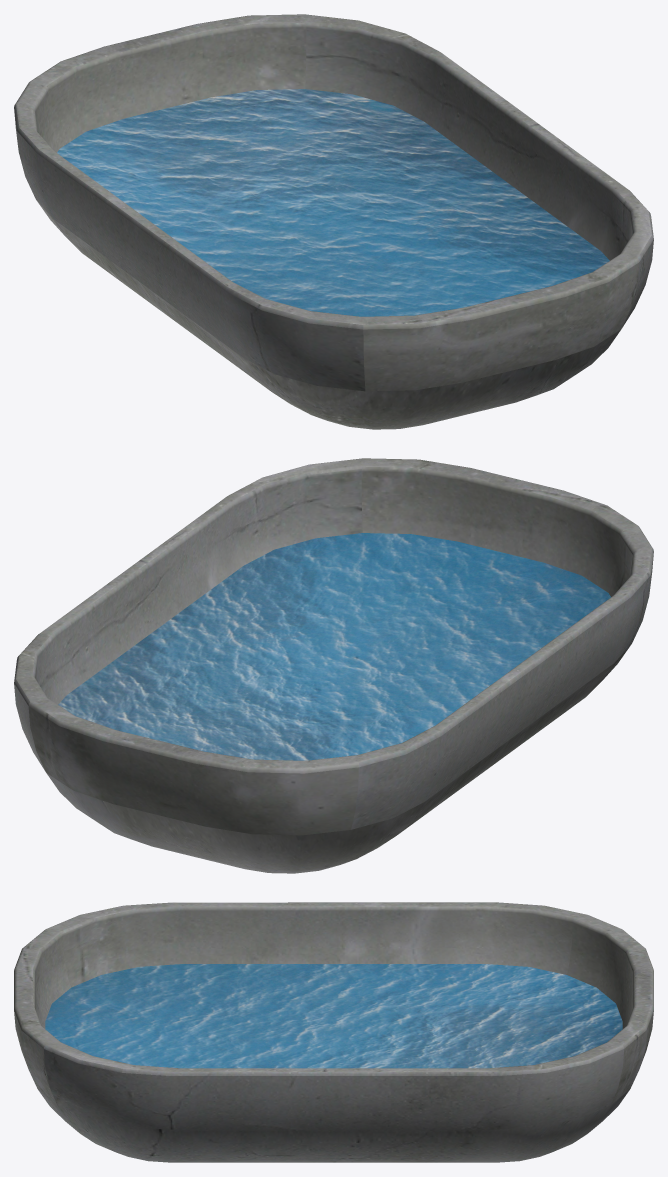
File: WaterReservoir.fbx
3 views of the same model, one above another, from view 1: azimuth 30°, elevation 25°; view 2: azimuth 150°, elevation 25°; view 3: azimuth 270°, elevation 25° (orthographic). The views are drawn at different scales.
Parts seen in each view (by area): view 1: pSphere1, polySurface1; view 2: pSphere1, polySurface1; view 3: pSphere1, polySurface1.
Part boxes in pixels (left/top/right/bottom): pSphere1: left=14, top=14, right=653, bottom=429; polySurface1: left=57, top=89, right=609, bottom=316; pSphere1: left=14, top=458, right=653, bottom=873; polySurface1: left=58, top=533, right=610, bottom=760; pSphere1: left=14, top=902, right=653, bottom=1162; polySurface1: left=45, top=964, right=622, bottom=1068.
Size of the model in its own units: 9.59 by 3.71 by 15.17.
